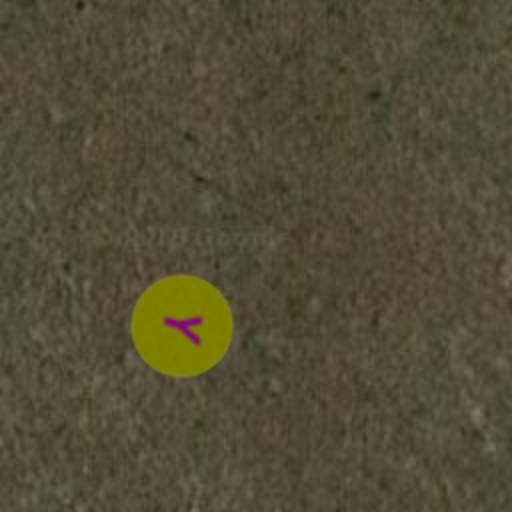circle: (124, 268, 240, 384)
